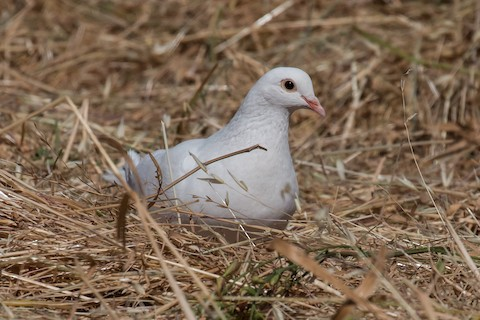pigeon: (104, 62, 331, 224)
